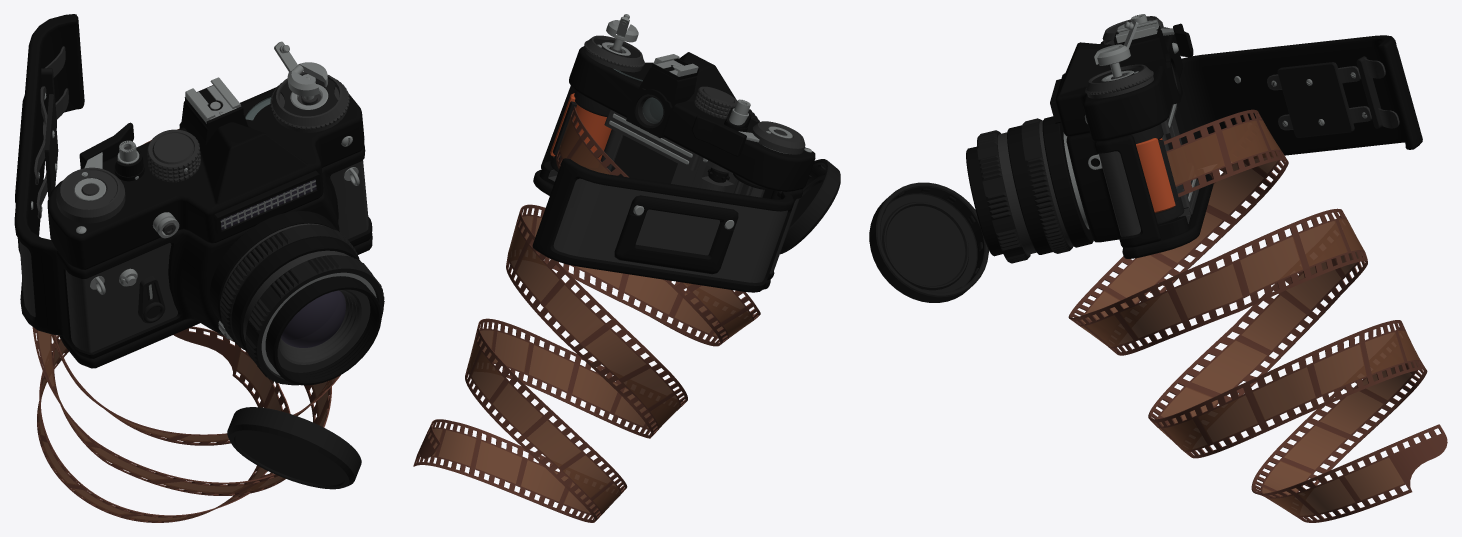
File: vintage_camera.glb
3 renders of one model, left to right at view 1: azimuth 30°, elevation 25°; view 2: azimuth 150°, elevation 25°; view 3: azimuth 270°, elevation 25°, orthographic. The views are drawn at different scales.
Parts seen in each view (by area): view 1: polySurface726, polySurface796, polySurface728, polySurface789, polySurface714, polySurface766, polySurface788, polySurface787, polySurface771, polySurface722, polySurface721, polySurface724 (+19 smaller); view 2: polySurface728, polySurface789, polySurface726, polySurface812, polySurface714, polySurface748, polySurface768, polySurface838, polySurface771, polySurface772, polySurface865, polySurface811 (+6 smaller); view 3: polySurface728, polySurface789, polySurface714, polySurface796, polySurface726, polySurface782, polySurface788, polySurface724, polySurface722, polySurface721, polySurface772, polySurface814 (+6 smaller).
Boxes of the visible parts, x1,y1,x2,y2 form: polySurface726: (47, 87, 364, 269); polySurface796: (56, 144, 372, 359); polySurface728: (32, 128, 340, 522); polySurface789: (14, 14, 84, 335); polySurface714: (227, 407, 361, 489); polySurface766: (265, 276, 381, 385); polySurface788: (245, 255, 384, 385); polySurface787: (277, 289, 370, 372); polySurface771: (56, 167, 125, 223); polySurface722: (220, 224, 359, 350); polySurface721: (231, 237, 359, 352); polySurface724: (210, 211, 337, 323); polySurface728: (413, 106, 760, 522); polySurface789: (532, 158, 793, 292); polySurface726: (569, 46, 815, 191); polySurface812: (614, 195, 738, 274); polySurface714: (780, 159, 840, 254); polySurface748: (610, 135, 677, 183); polySurface768: (691, 115, 746, 156); polySurface838: (638, 67, 696, 137); polySurface771: (751, 121, 805, 154); polySurface772: (550, 93, 611, 160); polySurface865: (604, 109, 700, 170); polySurface811: (694, 86, 737, 119); polySurface728: (1068, 109, 1447, 522); polySurface789: (1175, 35, 1422, 155); polySurface714: (869, 182, 988, 302); polySurface796: (1066, 133, 1161, 248); polySurface726: (1055, 27, 1182, 141); polySurface782: (1277, 62, 1354, 137); polySurface788: (977, 130, 1030, 263); polySurface724: (1042, 116, 1093, 247); polySurface722: (1021, 118, 1072, 253); polySurface721: (1007, 125, 1052, 254); polySurface772: (1136, 138, 1175, 212); polySurface814: (1122, 174, 1213, 258).
Bounding box in the file's own units: 0.7352 × 1.11 × 1.19.
